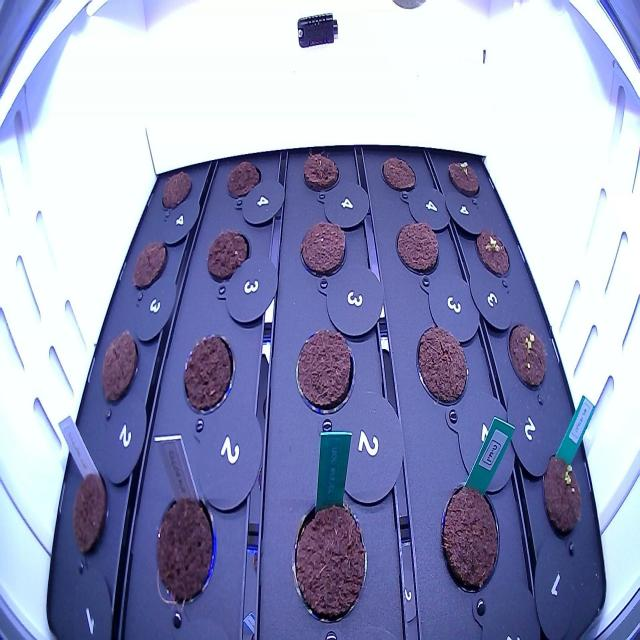germination: (536, 440, 592, 552), (500, 307, 554, 404), (471, 215, 515, 286), (441, 150, 485, 206)
pod: (283, 489, 373, 629), (149, 482, 220, 613), (436, 474, 504, 604), (290, 321, 360, 417), (177, 326, 242, 426), (411, 316, 472, 412), (66, 455, 112, 568), (94, 318, 144, 415), (292, 212, 351, 286), (202, 224, 255, 294), (392, 212, 443, 283), (128, 231, 174, 300), (296, 144, 346, 198), (222, 152, 265, 212), (376, 147, 420, 200), (156, 164, 196, 215)
